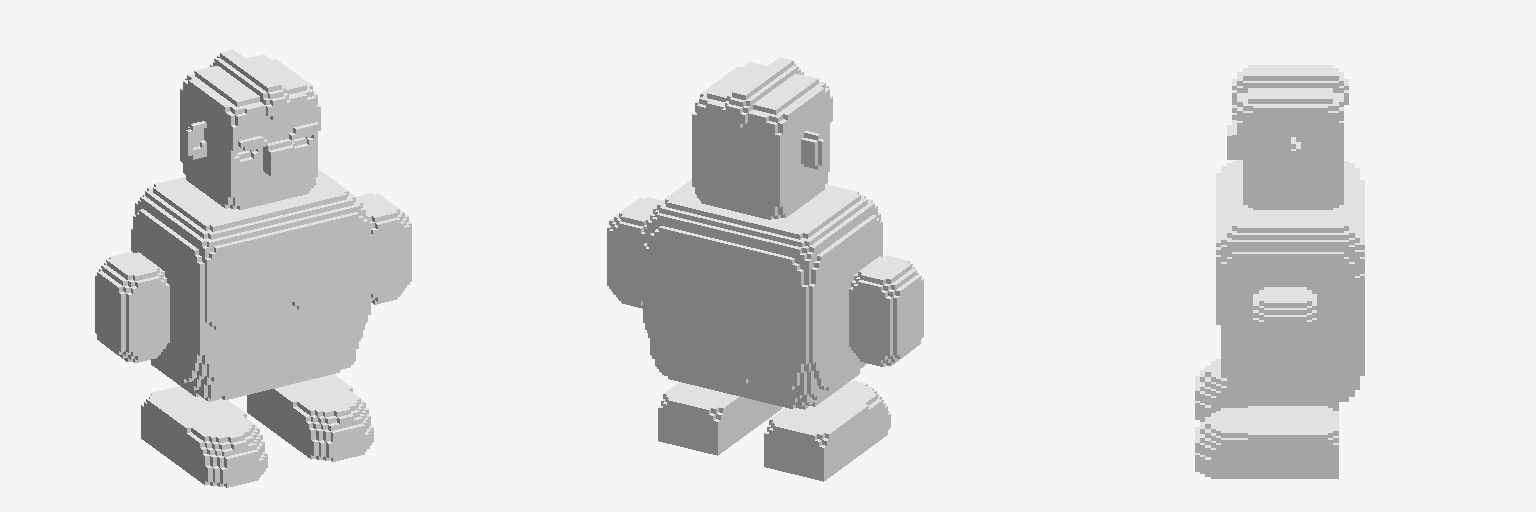
Rendered from Prisoner_Enemy_2.obj.
3 renders of one model, left to right at view 1: azimuth 30°, elevation 25°; view 2: azimuth 150°, elevation 25°; view 3: azimuth 270°, elevation 25°, orthographic.
Bounding box in the file's own units: 63 × 76 × 32.